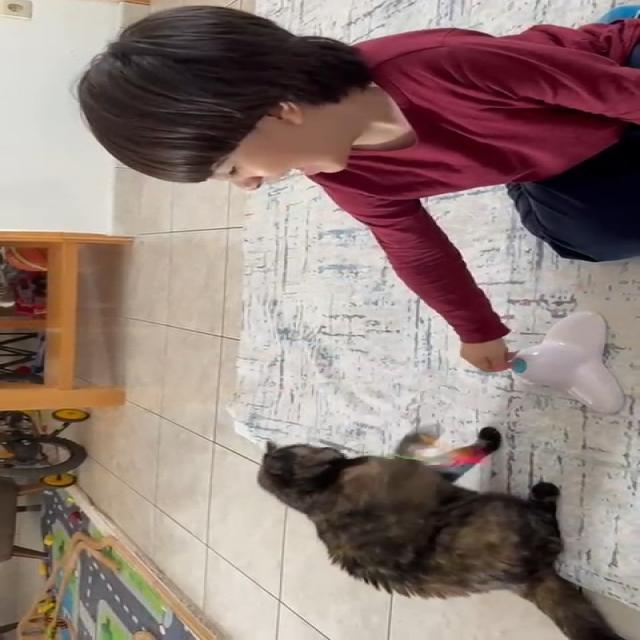authorized: (256, 438, 624, 640)
